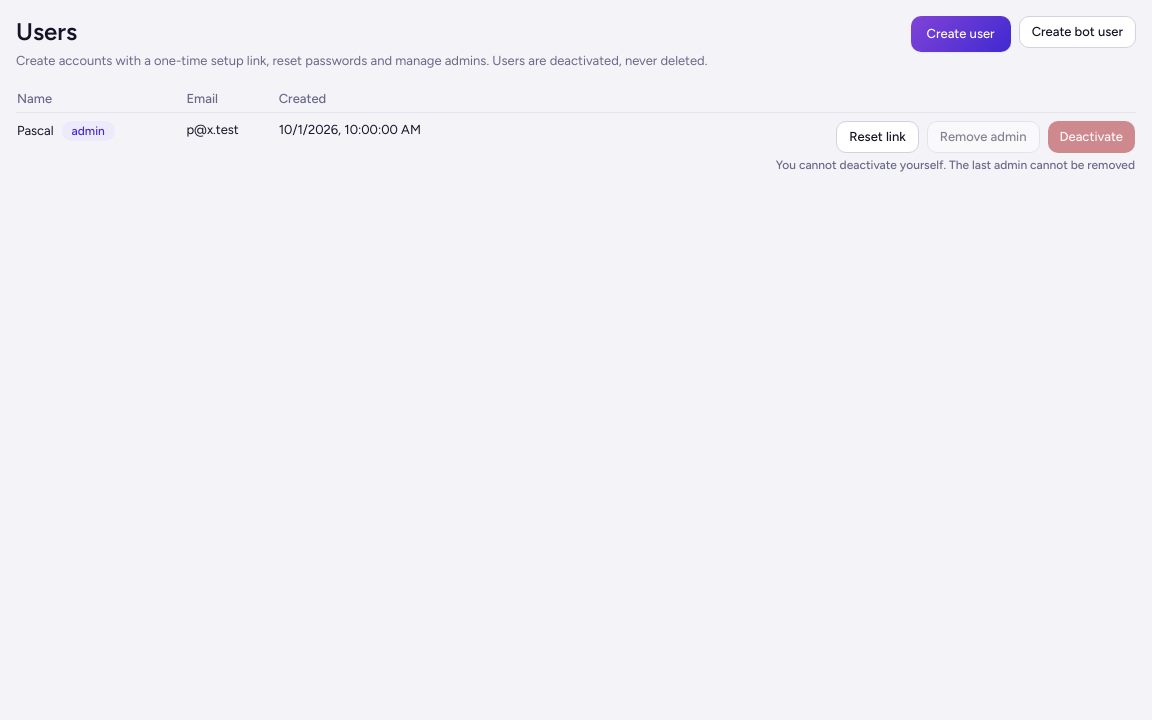
Test: UsersView › shows a 409 when the email is taken
Click the button "Create user": (961, 34) x1=911 y1=16 x2=1011 y2=52
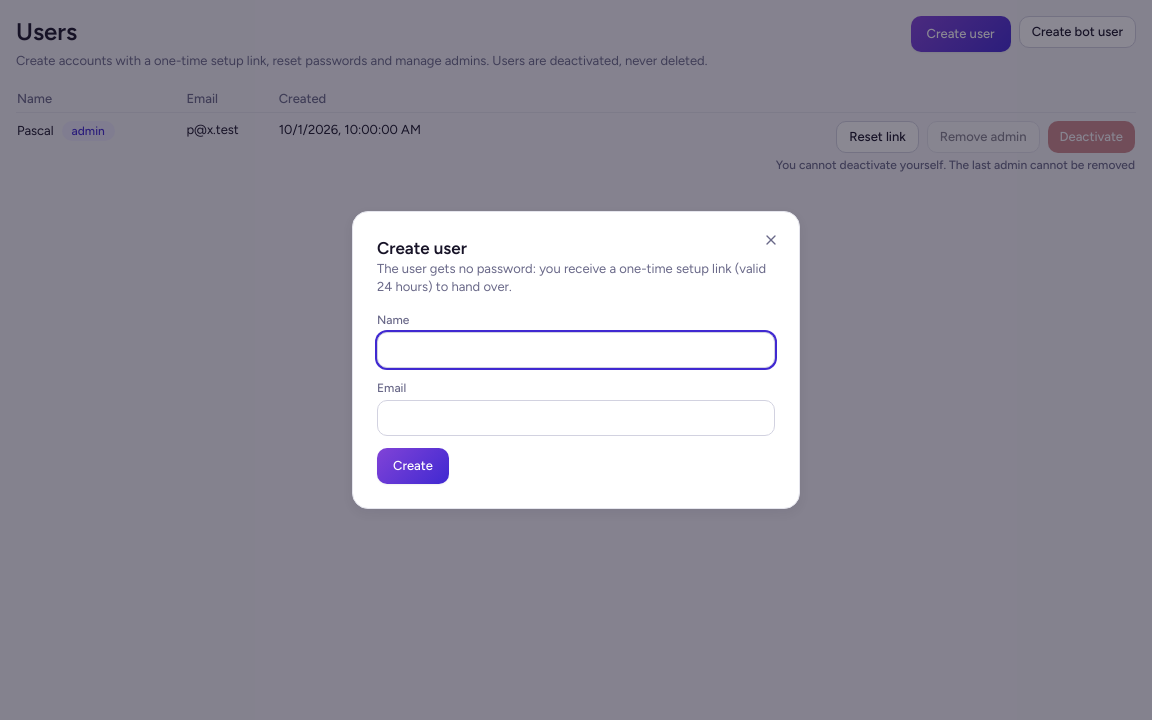
In the field labelled "Name": (576, 350) x1=377 y1=332 x2=775 y2=368, type "Kim"
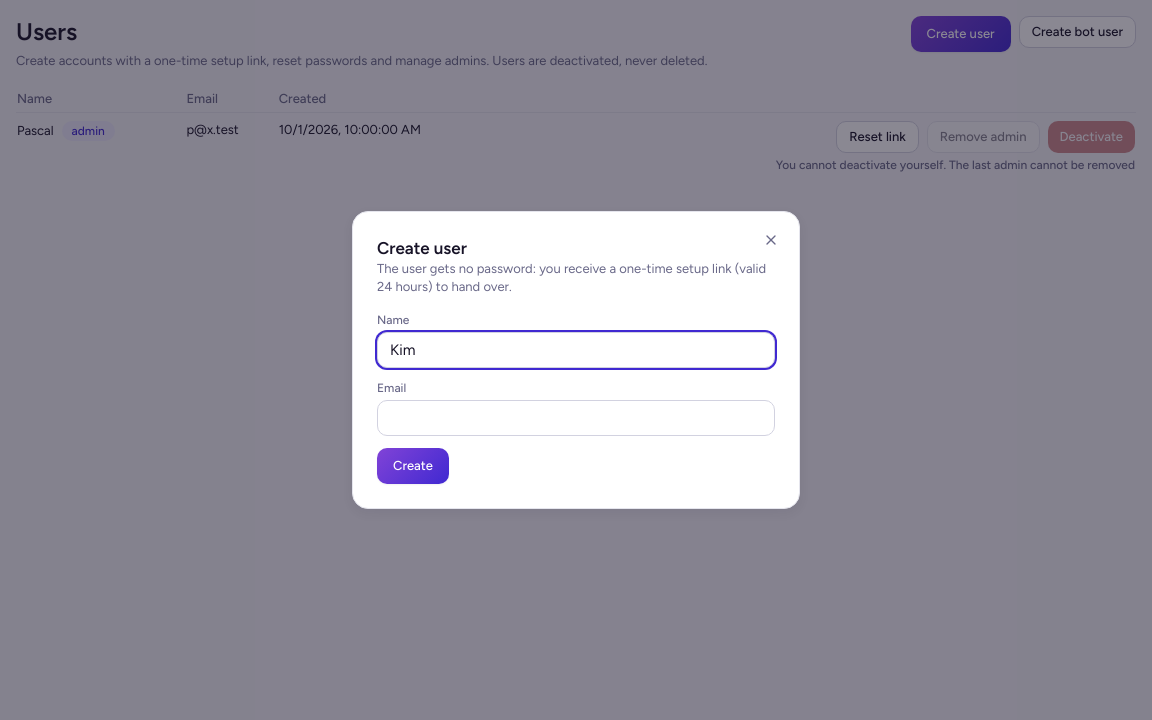
In the field labelled "Email": (576, 418) x1=377 y1=400 x2=775 y2=436, type "kim@x.test"
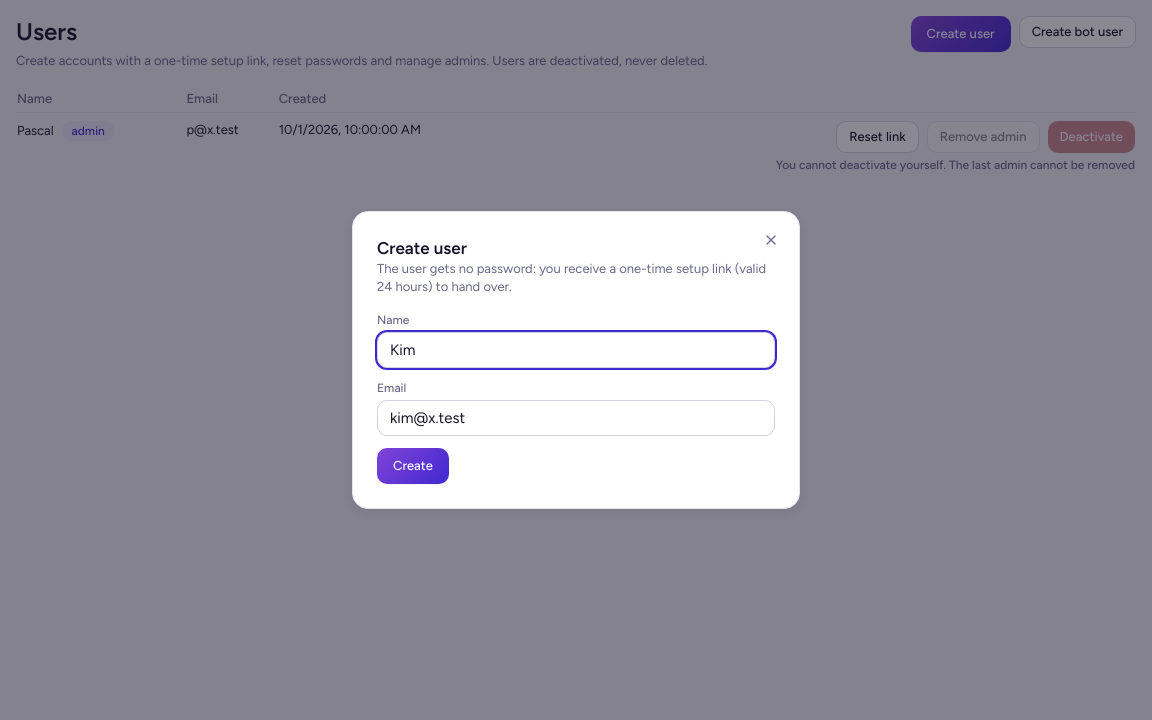
Click the button "Create": (413, 466) x1=377 y1=448 x2=449 y2=484
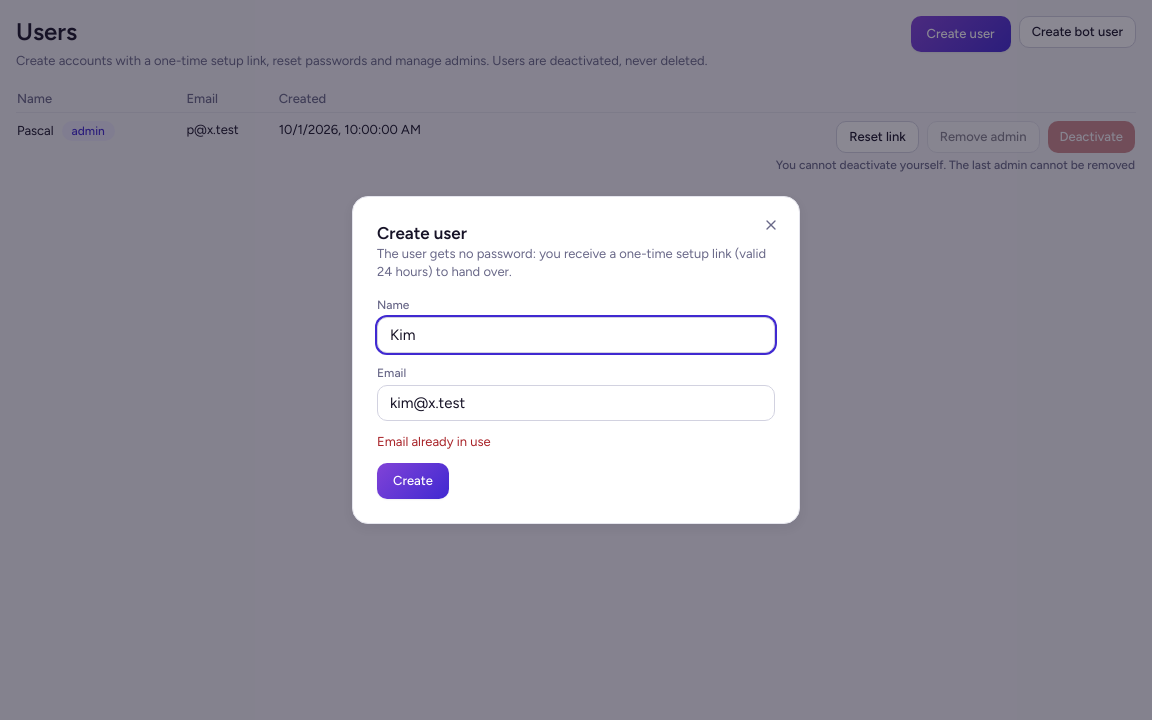
Result: the text "Email already in use" is shown at x1=377 y1=434 x2=491 y2=449
